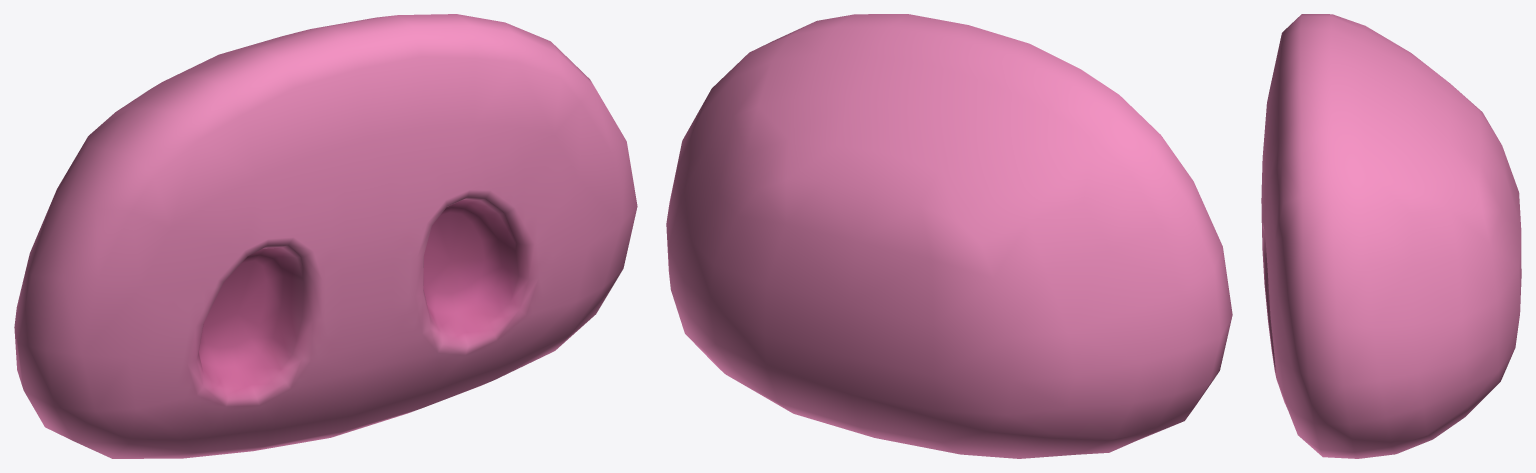
Rendered from AccessoryMouthPigPink.glb.
The picture shows the model from 3 angles, left to right: view 1: azimuth 30°, elevation 25°; view 2: azimuth 150°, elevation 25°; view 3: azimuth 270°, elevation 25°; orthographic projection. The views are drawn at different scales.
Parts seen in each view (by area): view 1: Accessory__mAccessory; view 2: Accessory__mAccessory; view 3: Accessory__mAccessory.
Boxes of the visible parts, x1,y1,x2,y2 form: Accessory__mAccessory: [14, 14, 637, 458]; Accessory__mAccessory: [666, 14, 1232, 458]; Accessory__mAccessory: [1261, 14, 1521, 458].
Size of the model in its own units: 1.59 by 1.04 by 0.7073.
1 material, 1 textured.
